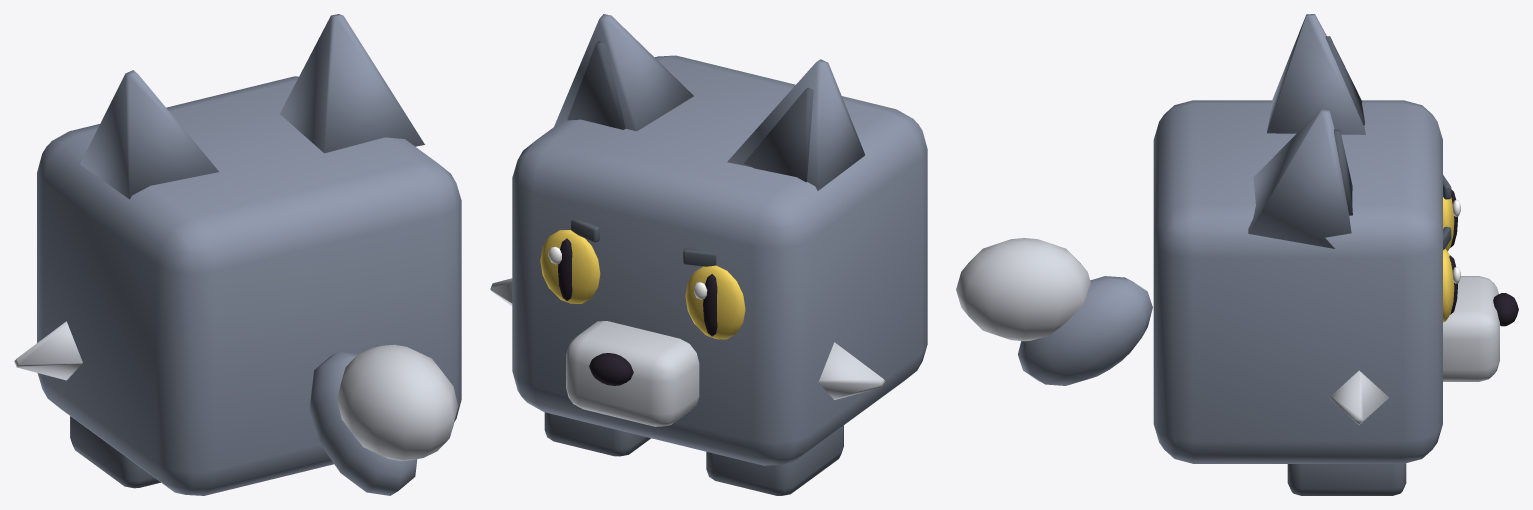
File: pet_wolf.fbx
3 renders of one model, left to right at view 1: azimuth 30°, elevation 25°; view 2: azimuth 150°, elevation 25°; view 3: azimuth 270°, elevation 25°, orthographic. The views are drawn at different scales.
Visible parts, largest first — view 1: pet_wolf; view 2: pet_wolf; view 3: pet_wolf.
Part boxes in pixels (bbox=[...]): pet_wolf: bbox=[14, 14, 461, 495]; pet_wolf: bbox=[490, 14, 927, 495]; pet_wolf: bbox=[956, 14, 1518, 495].
Size of the model in its own units: 2.8 by 2.75 by 3.7.
1 material, 1 textured.
